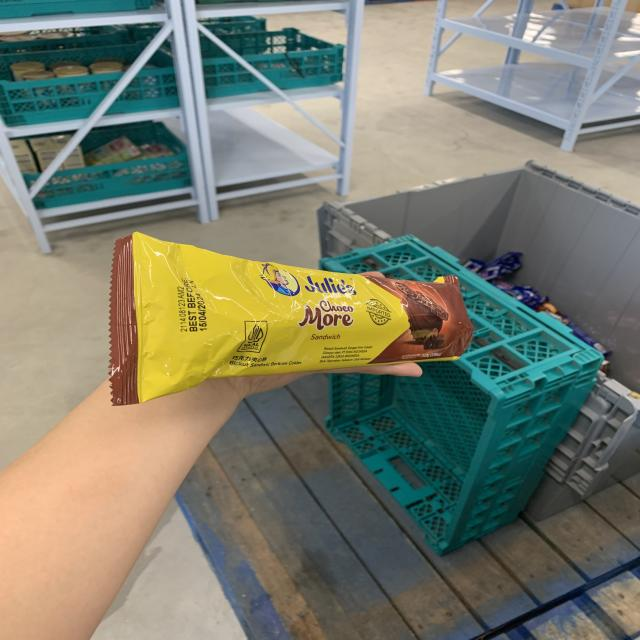object_name: (134, 252, 460, 362)
